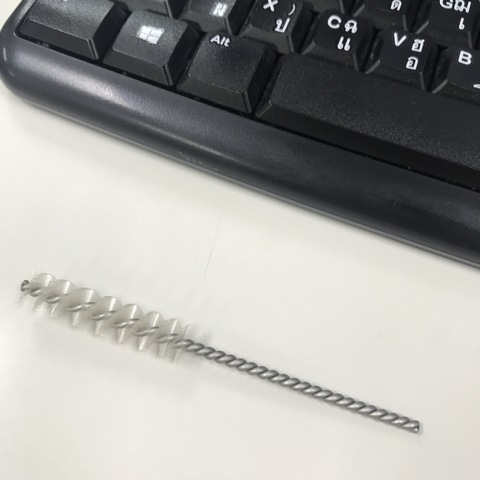Twist Brush-B: (22, 268, 421, 434)
